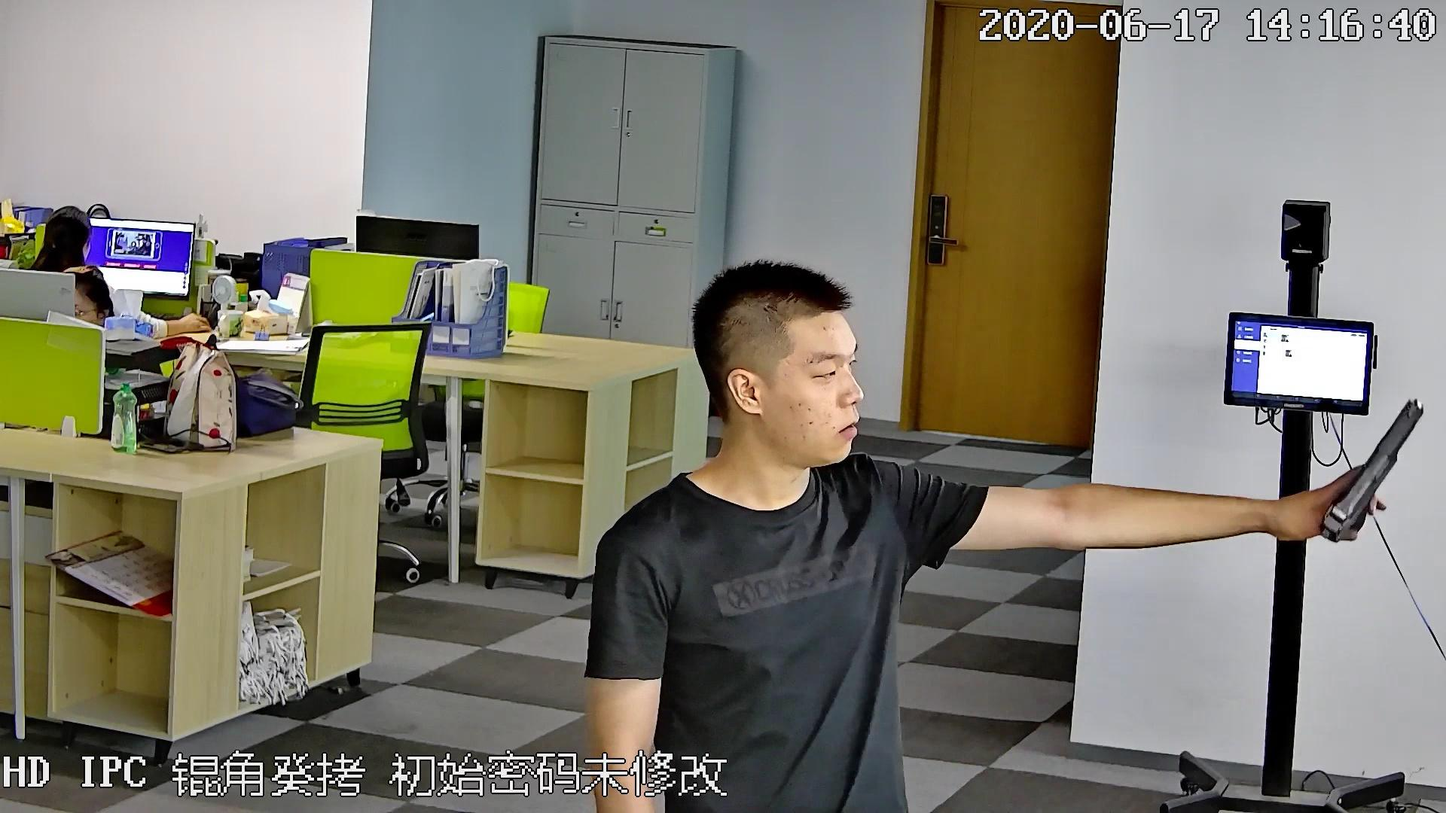gun: (1317, 384, 1419, 540)
